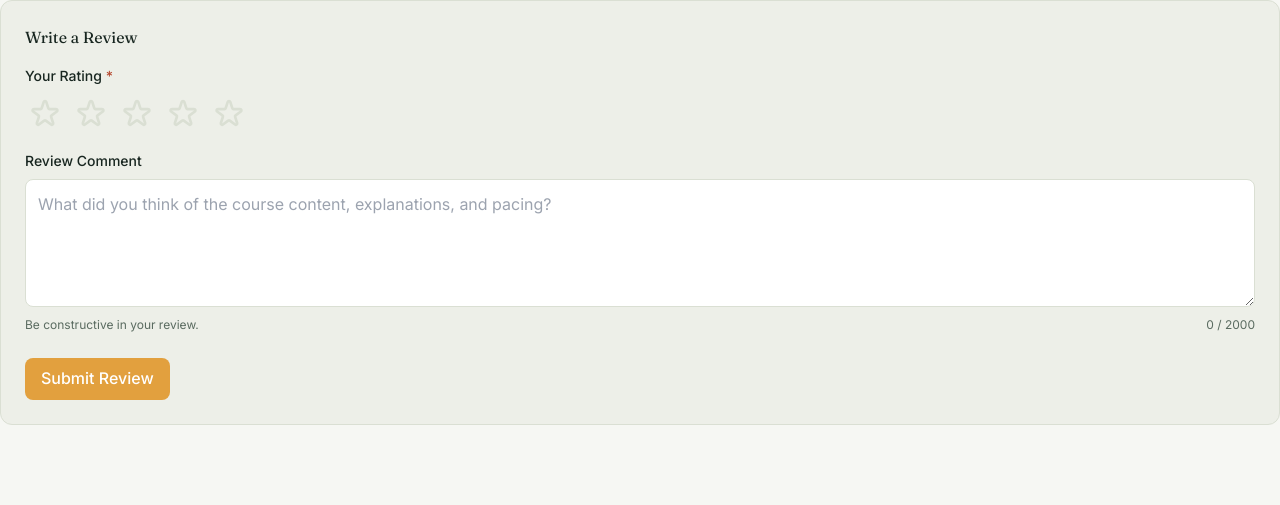
Test: ReviewForm › blocks submission and shows a validation error when no star rating is selected
Click the button "Submit Review": (97, 379) [25,358,170,400]
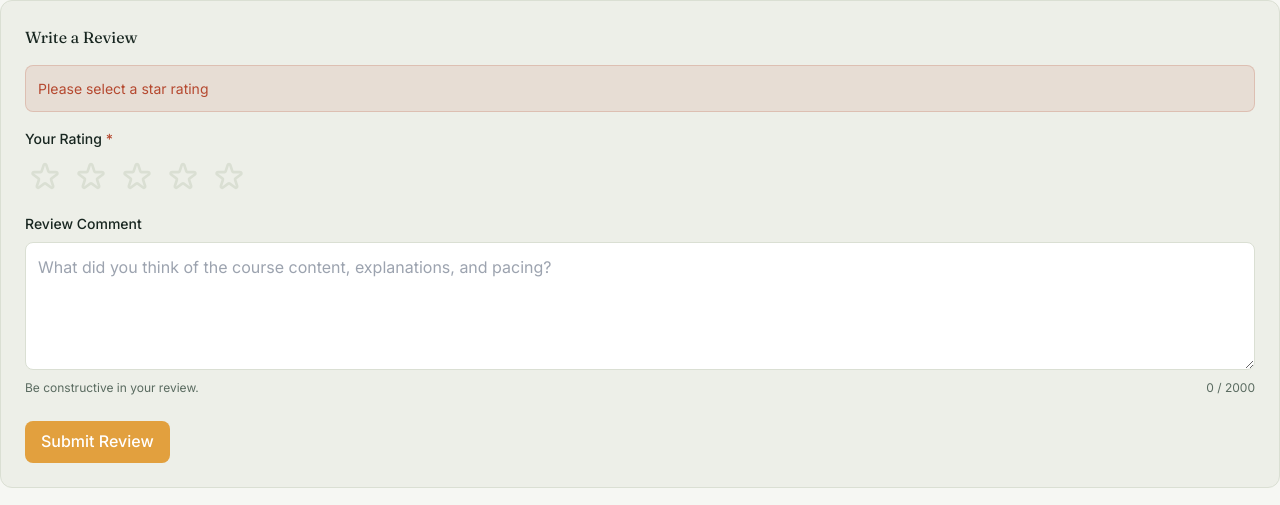
Result: the button "Please select a star rating" is shown at [25,65,1255,112]
